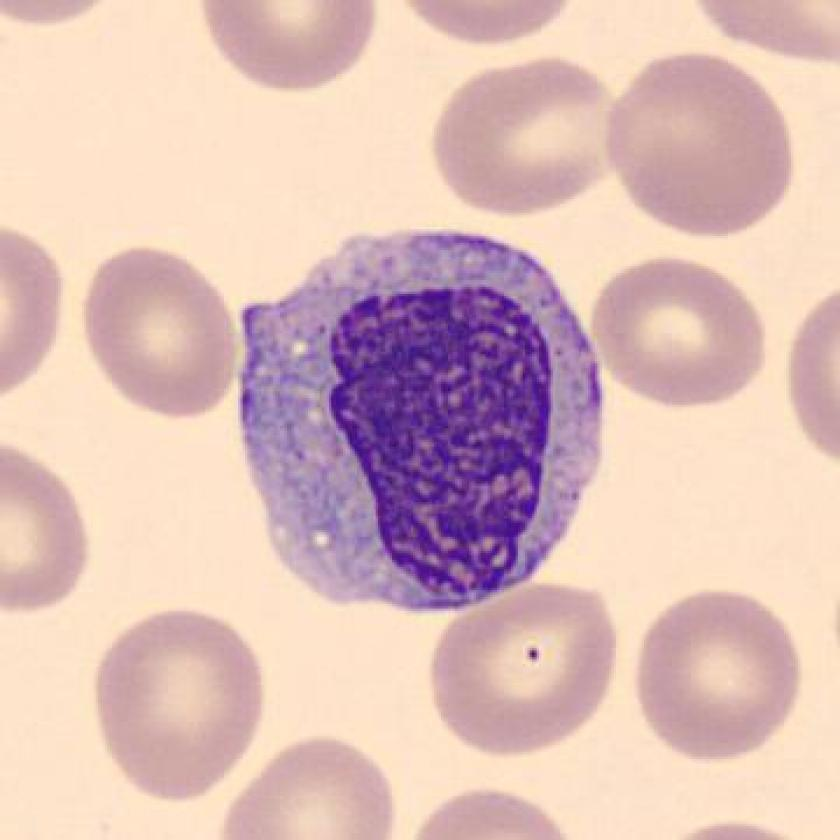monocyte: (218, 207, 626, 633)
